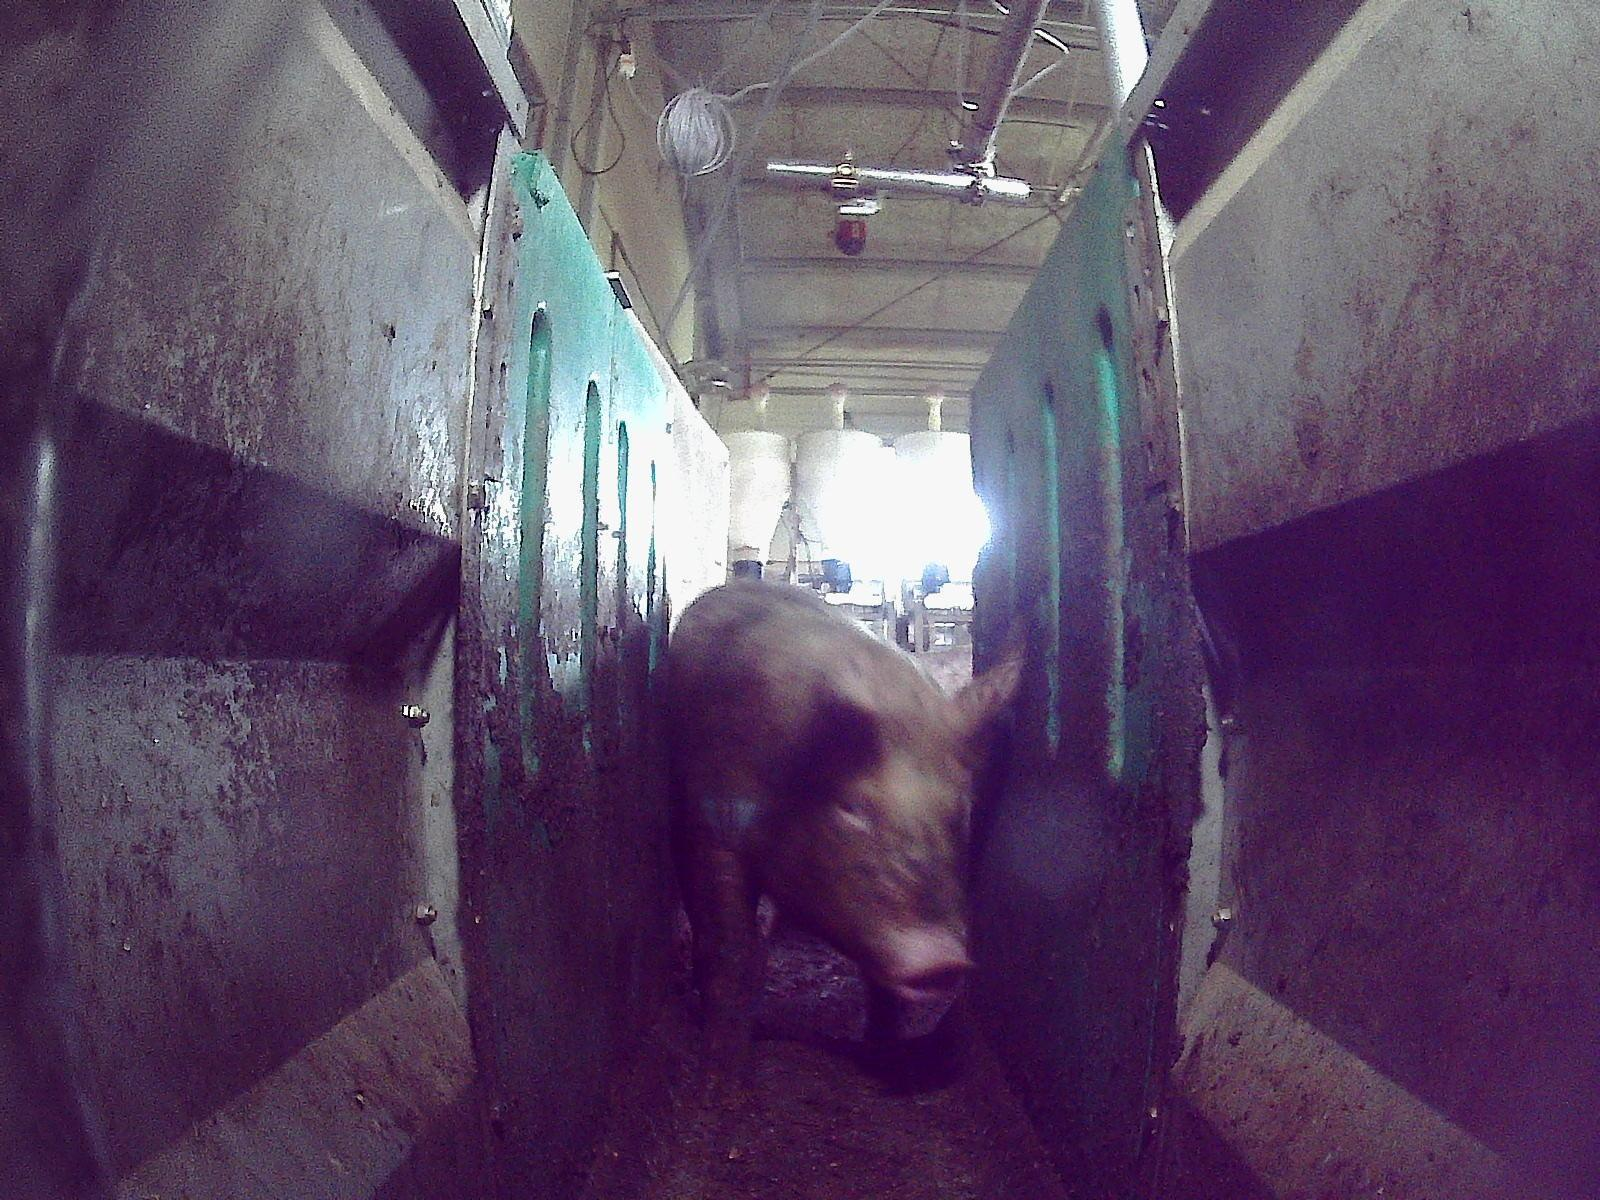Face: (783, 720, 976, 998)
